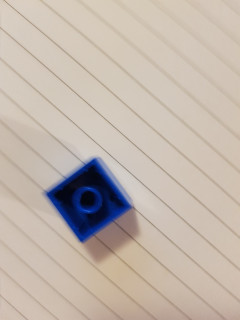2x2 blue: (40, 154, 137, 247)
